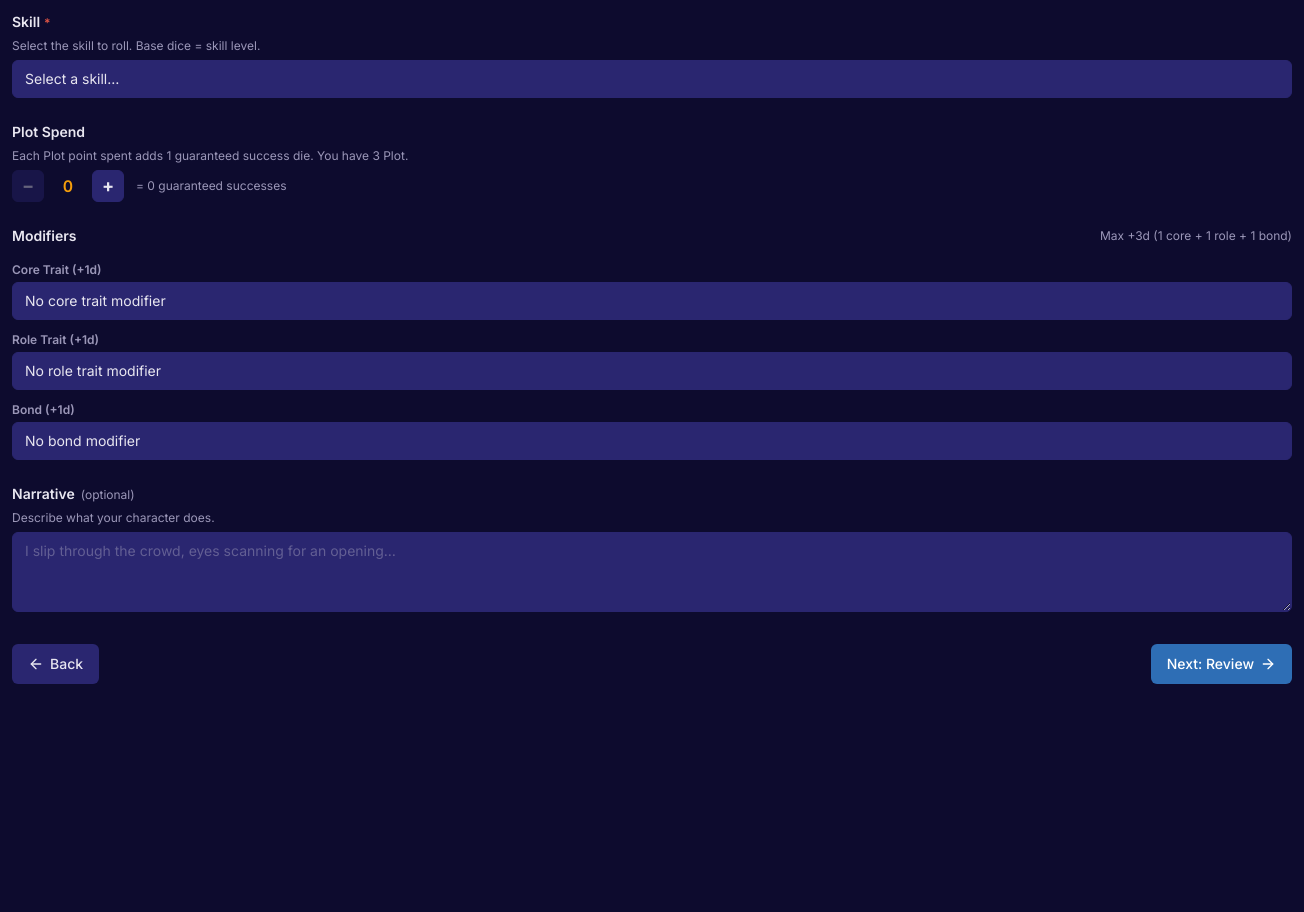
it: UseSkillForm › plot spend › increments plot spend when + is clicked
Click the button named "Increase plot spend" at coordinates (108, 186), box [92, 170, 124, 202]
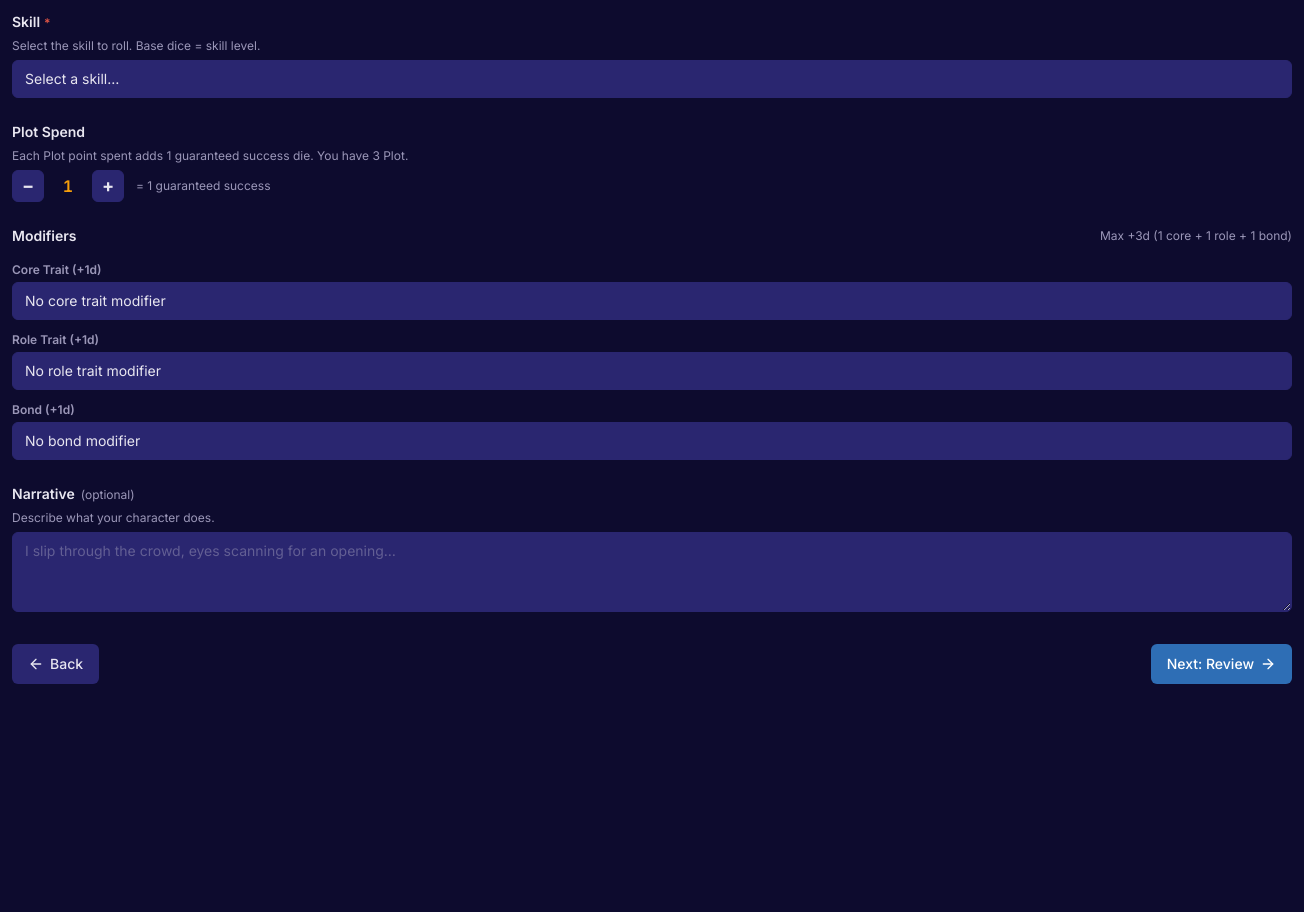
expect the text named "Plot spend amount" reads "1": met, box [63, 176, 73, 196]
